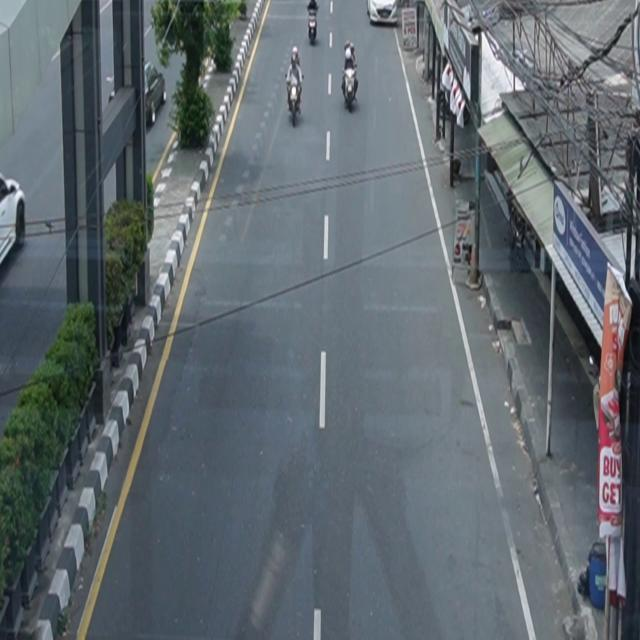car: (1, 172, 27, 270), (367, 1, 398, 26)
